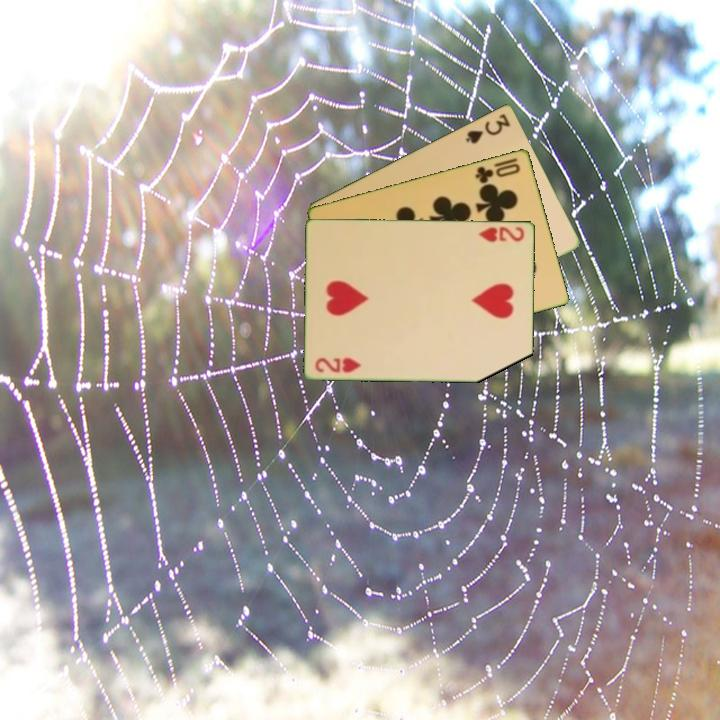10c: (472, 154, 523, 186)
2h: (475, 223, 527, 245), (312, 354, 364, 375)
3s: (463, 110, 513, 147)
